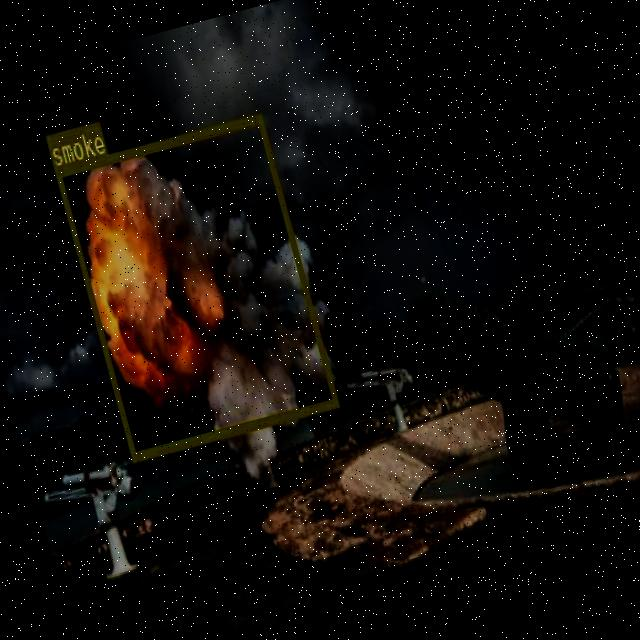smoke: (53, 111, 338, 460)
